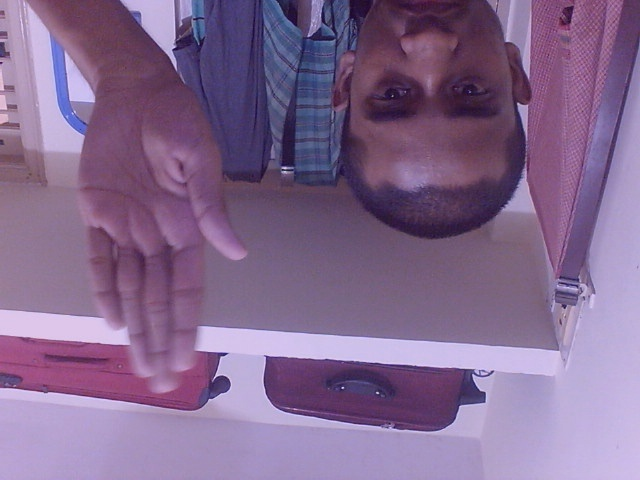hand: (72, 56, 255, 398)
